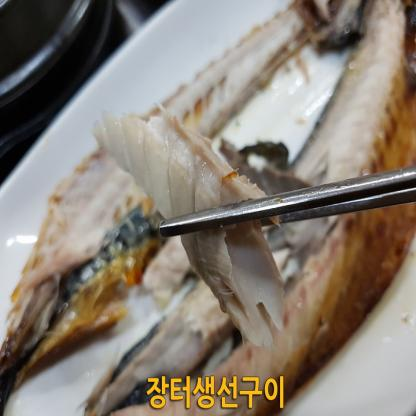Peixe: (0, 0, 416, 416), (106, 107, 310, 349)
